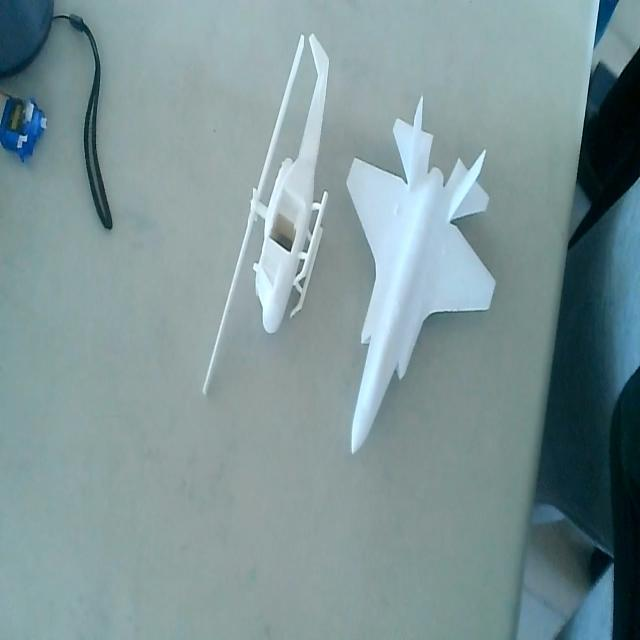Helicopter: (200, 30, 338, 420)
Jet: (342, 92, 499, 459)
